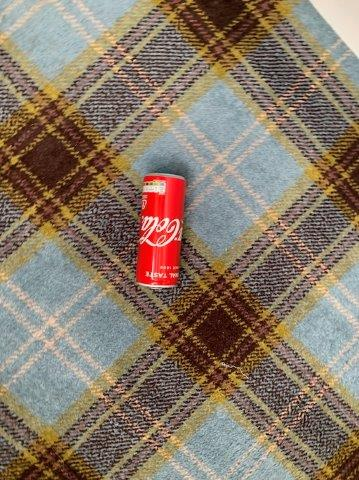kaleng: (136, 173, 186, 288)
